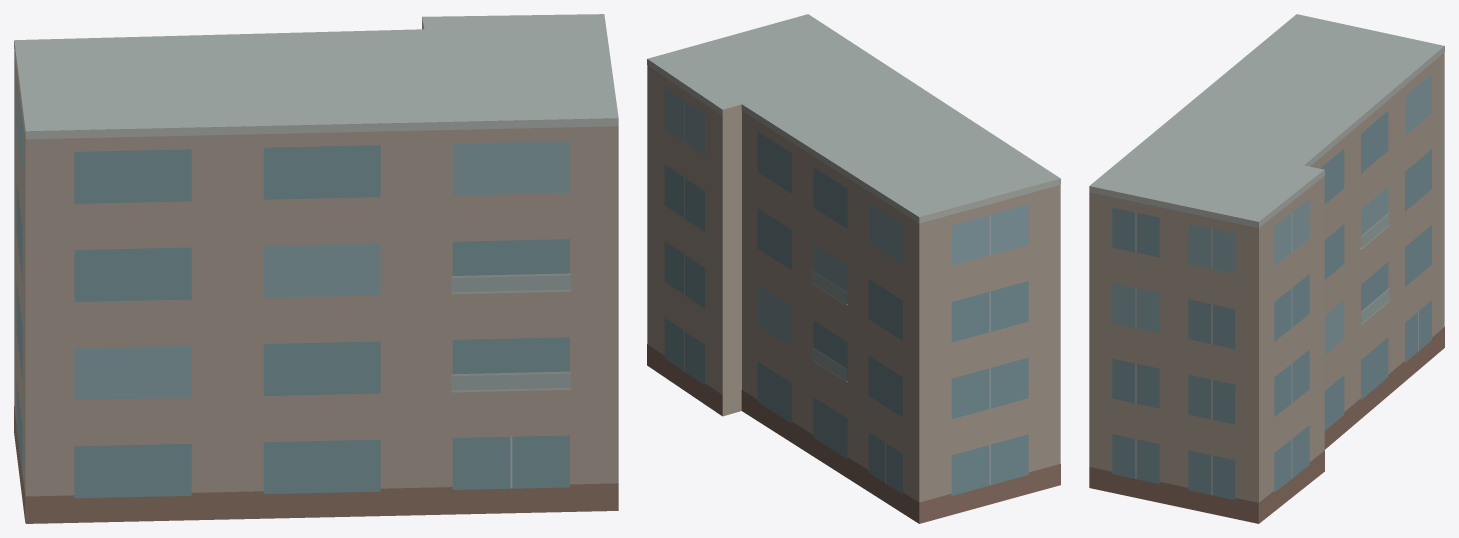
File: survey-upis-32885863.glb
3 renders of one model, left to right at view 1: azimuth 30°, elevation 25°; view 2: azimuth 150°, elevation 25°; view 3: azimuth 270°, elevation 25°, orthographic. The views are drawn at different scales.
Parts seen in each view (by area): view 1: survey-upis-32885863.tmp; view 2: survey-upis-32885863.tmp; view 3: survey-upis-32885863.tmp.
Part boxes in pixels (left/top/right/bottom): survey-upis-32885863.tmp: left=14, top=14, right=618, bottom=523; survey-upis-32885863.tmp: left=647, top=14, right=1060, bottom=523; survey-upis-32885863.tmp: left=1089, top=14, right=1444, bottom=523.
Size of the model in its own units: 17.44 by 11.8 by 12.6.
